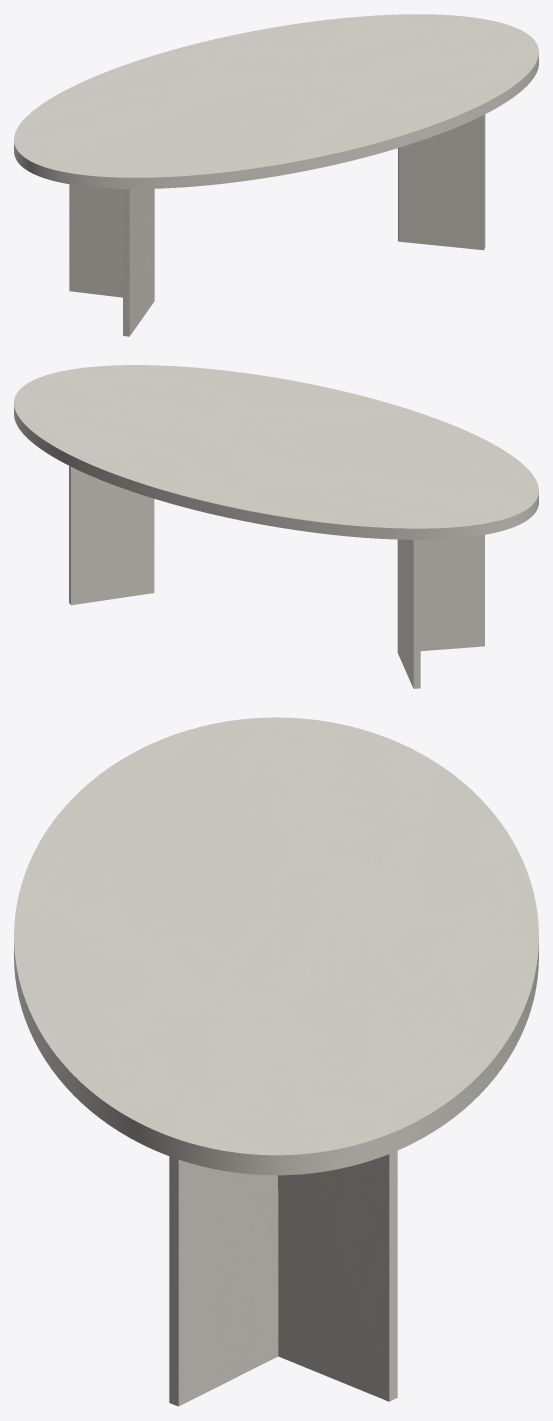
The model's file is pale_ellips_standard_valleyv.glb.
3 renders of one model, top to bottom at view 1: azimuth 30°, elevation 25°; view 2: azimuth 150°, elevation 25°; view 3: azimuth 270°, elevation 25°, orthographic. The views are drawn at different scales.
Visible parts, largest first — view 1: standard_ellips, valleyv; view 2: standard_ellips, valleyv; view 3: standard_ellips, valleyv.
Part boxes in pixels (<box>): standard_ellips: <box>14,14,538,188</box>; valleyv: <box>69,114,485,336</box>; standard_ellips: <box>14,365,538,539</box>; valleyv: <box>69,466,484,688</box>; standard_ellips: <box>14,717,538,1175</box>; valleyv: <box>169,1150,397,1406</box>.
Bounding box in the file's own units: 7.5 × 2.5 × 3.8.
1 material, 1 textured.
